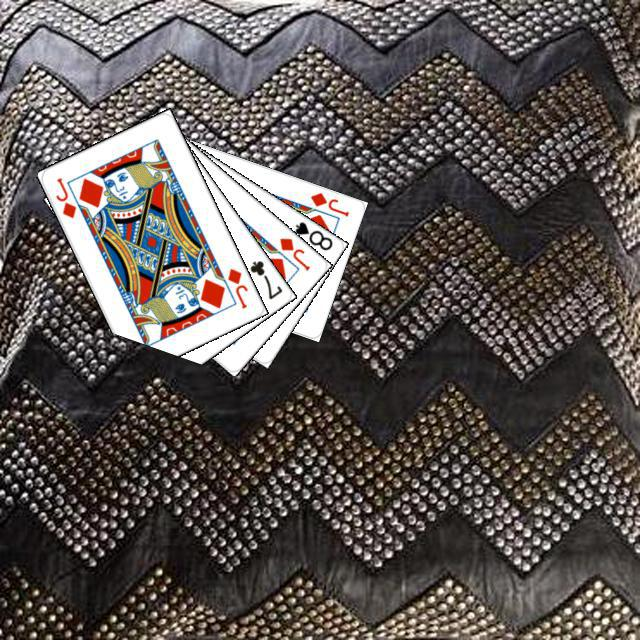7c: (245, 255, 284, 301)
8s: (290, 216, 334, 252)
Jd: (274, 233, 312, 273), (305, 187, 351, 219), (50, 172, 78, 220), (222, 263, 249, 311)
